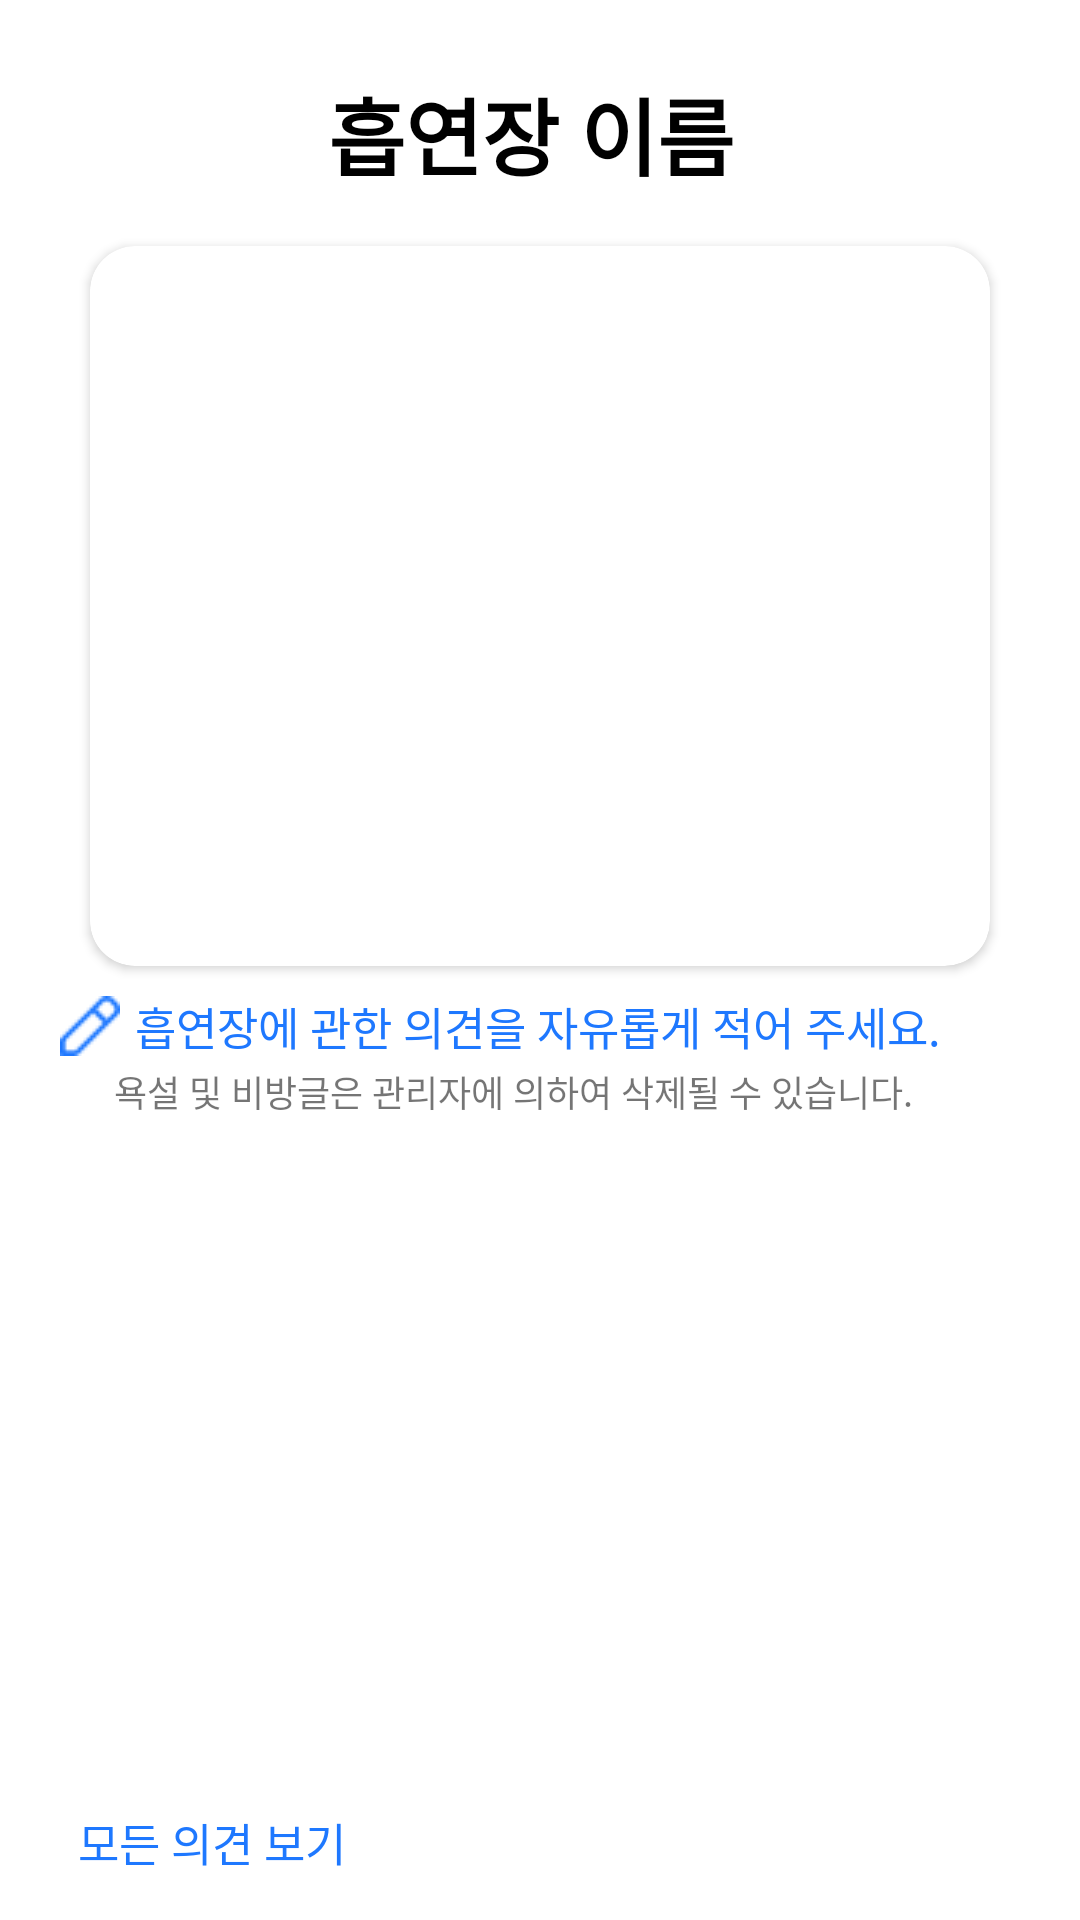

Named icons in this screenshot (1080×1920) and their centers, (x=x, y=y):
pencil: (x=90, y=1026)
